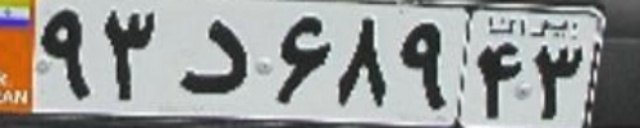3: (103, 9, 150, 100), (532, 41, 582, 119)
4: (476, 39, 521, 119)
6: (276, 14, 330, 104)
8: (342, 17, 386, 107)
9: (39, 8, 90, 99), (399, 20, 444, 109)
dal: (176, 19, 249, 94)
